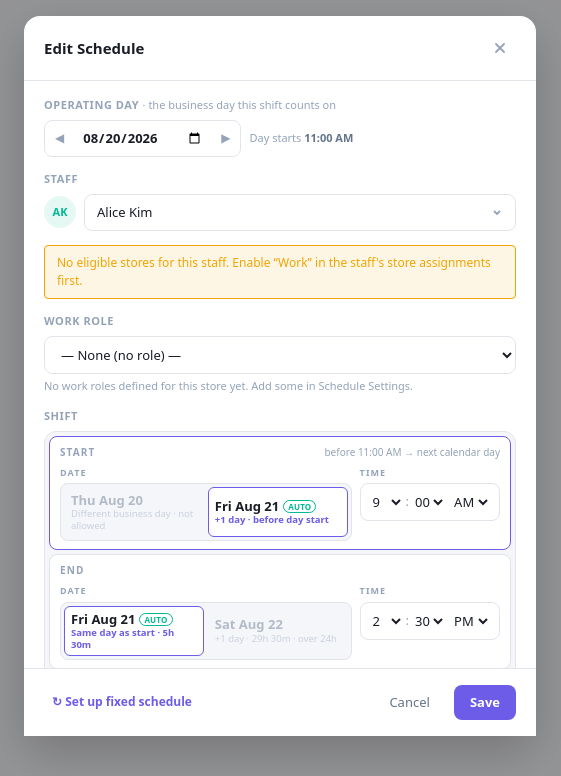
it: ScheduleEditModal — 시작 달력일 › **시각을 바꾸면 날짜가 자동 판정으로 되돌아온다** (오염 재현 시나리오)
This screenshot has width=561, height=776.
Select "5" in the dropdown named "Hour" below "before 11:00 AM → next calendar day" at (386, 502), box 369,492 -> 404,512
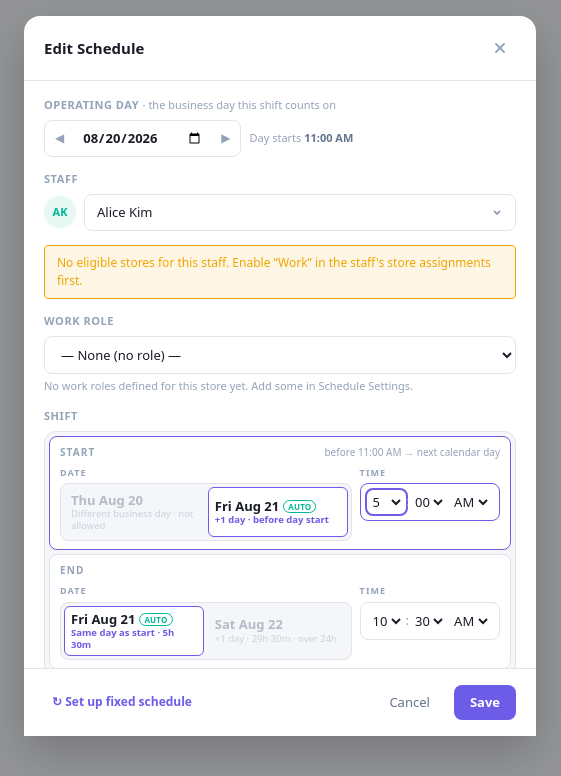
Select "PM" in the dropdown named "AM/PM" below "before 11:00 AM → next calendar day" at (471, 502), box 450,492 -> 491,512
(page scrolled)
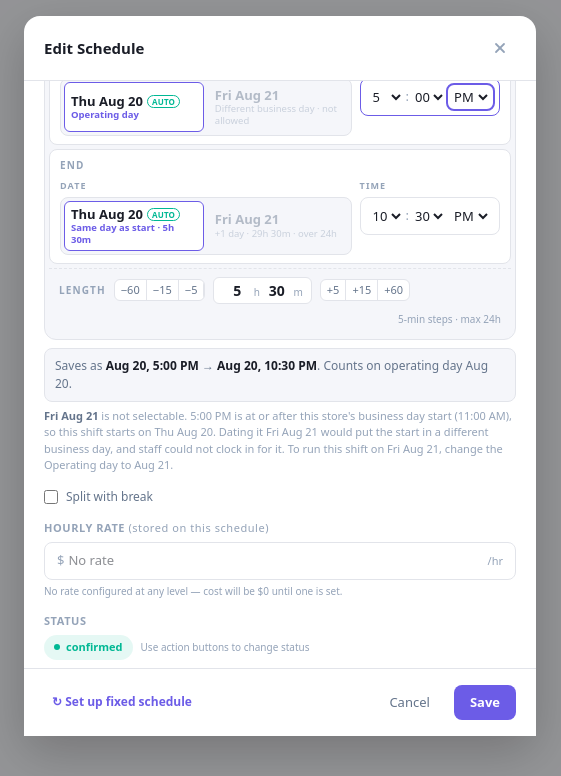
Now the text "Saves as" shows "Aug 20, 5:00 PM", box 106,356 -> 199,374
